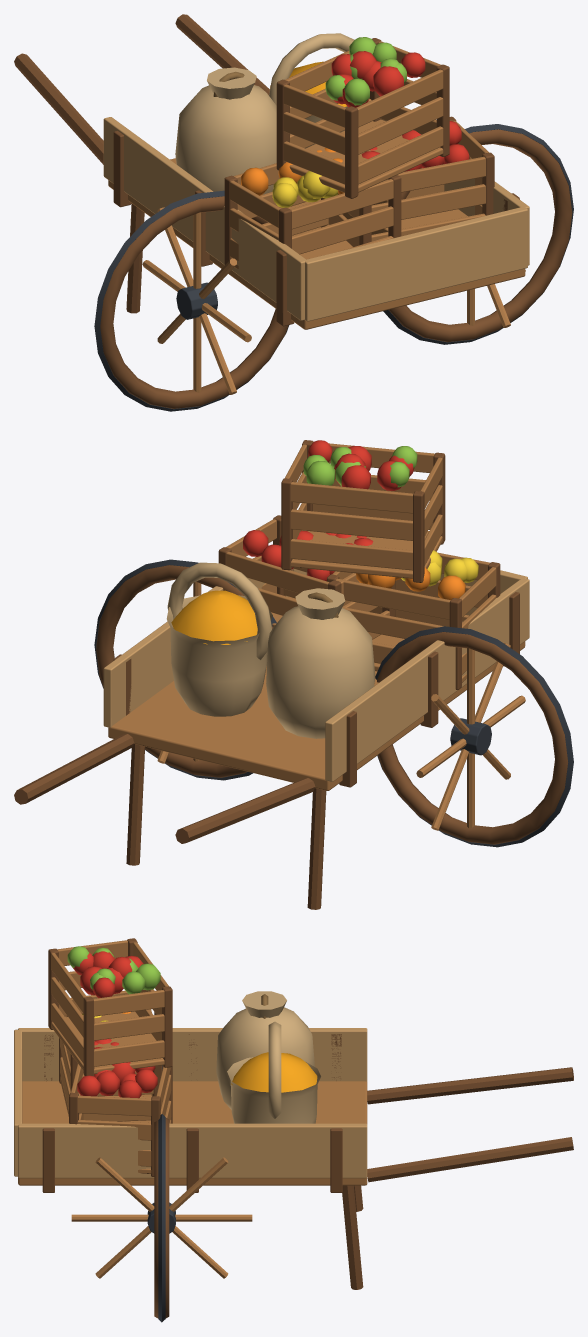
File: mk_handcart.glb
3 renders of one model, top to bottom at view 1: azimuth 30°, elevation 25°; view 2: azimuth 150°, elevation 25°; view 3: azimuth 270°, elevation 25°, orthographic. The views are drawn at different scales.
Visible parts, largest first — view 1: mk_handcart_body; view 2: mk_handcart_body; view 3: mk_handcart_body.
Boxes of the visible parts, bbox=[...] form: mk_handcart_body: bbox=[14, 14, 573, 411]; mk_handcart_body: bbox=[14, 440, 573, 909]; mk_handcart_body: bbox=[14, 938, 573, 1322].
Size of the model in its own units: 2.38 by 1.61 by 2.73.
